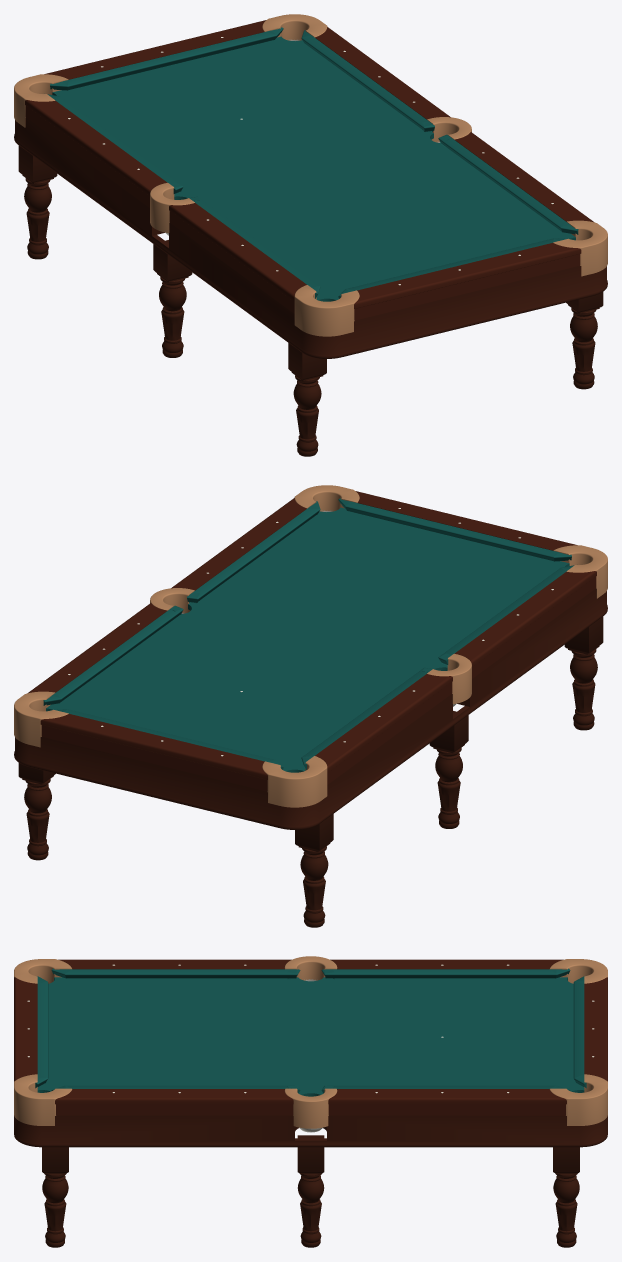
The model's file is table-9ft.glb.
3 views of the same model, one above another, from view 1: azimuth 30°, elevation 25°; view 2: azimuth 150°, elevation 25°; view 3: azimuth 270°, elevation 25° (orthographic). The views are drawn at different scales.
Visible parts, largest first — view 1: 9ft-bed, 9ft-rails, 9ft-apron, 9ft-legs, 9ft-leathers, 9ft-cushion-2, 9ft-cushion-4, 9ft-cushion-3, 9ft-cushion-1, 9ft-cushion-0, 9ft-cushion-5; view 2: 9ft-bed, 9ft-rails, 9ft-apron, 9ft-legs, 9ft-leathers, 9ft-cushion-5, 9ft-cushion-3, 9ft-cushion-4, 9ft-cushion-0, 9ft-cushion-1, 9ft-cushion-2; view 3: 9ft-bed, 9ft-rails, 9ft-apron, 9ft-leathers, 9ft-legs, 9ft-cushion-0, 9ft-cushion-1, 9ft-cushion-2, 9ft-cushion-5, 9ft-cushion-3, 9ft-cushion-4.
Part boxes in pixels (box(x1,y1,x2,y2)): 9ft-bed: box(52, 36, 575, 301); 9ft-rails: box(25, 20, 593, 320); 9ft-apron: box(14, 117, 607, 358); 9ft-legs: box(18, 145, 603, 456); 9ft-leathers: box(14, 14, 607, 336); 9ft-cushion-2: box(50, 27, 283, 90); 9ft-cushion-4: box(438, 134, 578, 234); 9ft-cushion-3: box(301, 30, 434, 132); 9ft-cushion-1: box(47, 94, 183, 194); 9ft-cushion-0: box(187, 196, 320, 298); 9ft-cushion-5: box(338, 238, 571, 298); 9ft-bed: box(46, 507, 569, 772); 9ft-rails: box(28, 491, 596, 791); 9ft-apron: box(14, 588, 607, 829); 9ft-legs: box(18, 616, 603, 927); 9ft-leathers: box(14, 485, 607, 807); 9ft-cushion-5: box(338, 498, 571, 561); 9ft-cushion-3: box(43, 605, 183, 705); 9ft-cushion-4: box(187, 501, 320, 603); 9ft-cushion-0: box(438, 565, 574, 665); 9ft-cushion-1: box(301, 667, 434, 769); 9ft-cushion-2: box(50, 709, 283, 769); 9ft-bed: box(37, 977, 584, 1096); 9ft-rails: box(14, 959, 607, 1115); 9ft-apron: box(14, 1115, 607, 1147); 9ft-leathers: box(14, 956, 607, 1128); 9ft-legs: box(42, 1135, 579, 1247); 9ft-cushion-0: box(51, 968, 300, 979); 9ft-cushion-1: box(321, 968, 570, 979); 9ft-cushion-2: box(573, 976, 586, 1088); 9ft-cushion-5: box(35, 976, 48, 1088); 9ft-cushion-3: box(321, 1085, 570, 1093); 9ft-cushion-4: box(51, 1085, 300, 1093).
Bounding box in the file's own units: 1.66 × 0.8077 × 2.87.
